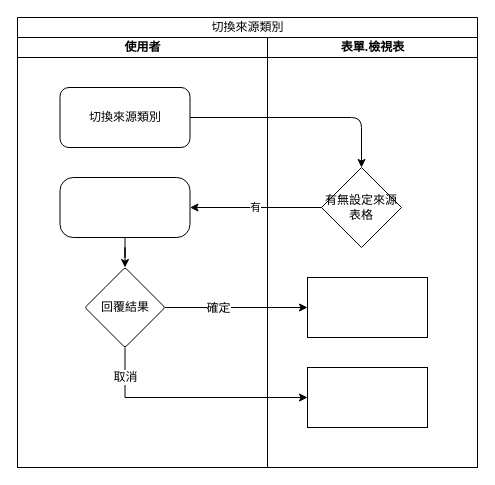
Some shapes in this 495 by 485 pixel diagram are drawn without their labels. The shapes that lost their labels are listed below. From the top down, each one's centre as x and y in pixels, then its label:
(x=124, y=207): 彈出詢問是否清除相關欄位
(x=367, y=307): 關閉訊息盒, 清除相關欄位
(x=367, y=397): 關閉訊息盒
